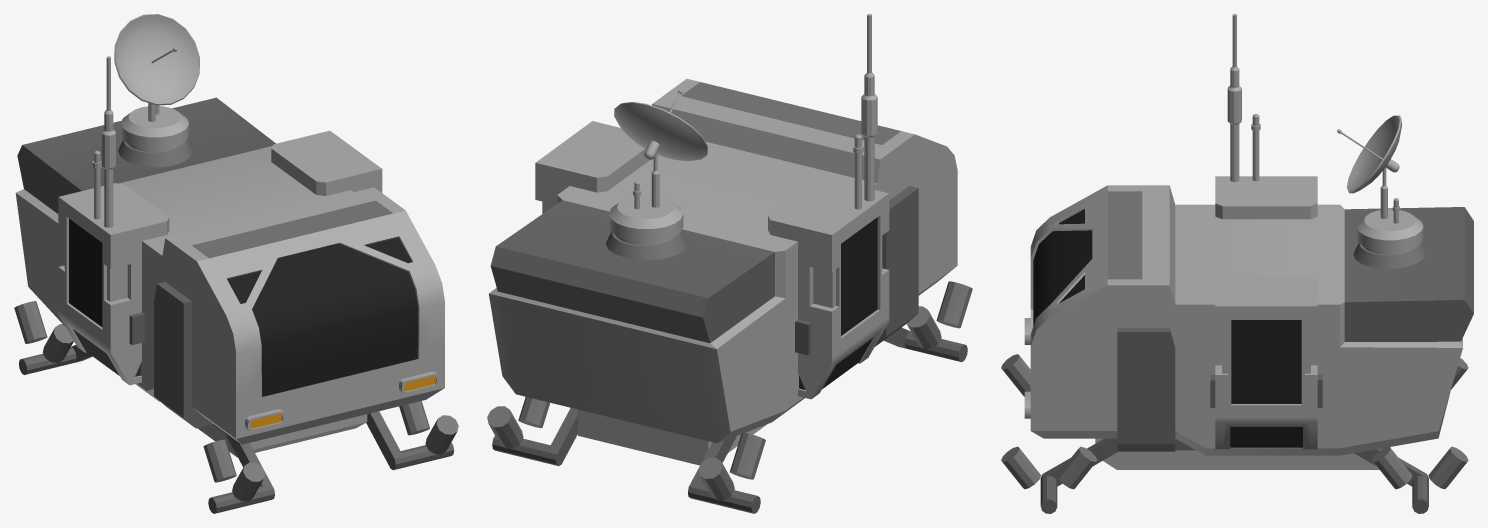
Rendered from c_rv5_rover_1_lev4.glb.
The picture shows the model from 3 angles, left to right: view 1: azimuth 30°, elevation 25°; view 2: azimuth 150°, elevation 25°; view 3: azimuth 270°, elevation 25°; orthographic projection. The views are drawn at different scales.
Parts seen in each view (by area): view 1: c_rv5_rover_1_lev4; view 2: c_rv5_rover_1_lev4; view 3: c_rv5_rover_1_lev4.
Boxes of the visible parts, x1,y1,x2,y2 form: c_rv5_rover_1_lev4: (14,14,458,513); c_rv5_rover_1_lev4: (487,14,972,513); c_rv5_rover_1_lev4: (1001,14,1473,513).
Bounding box in the file's own units: 1.81 × 2.48 × 2.78.
Materials: 1 (1 with a texture image).
